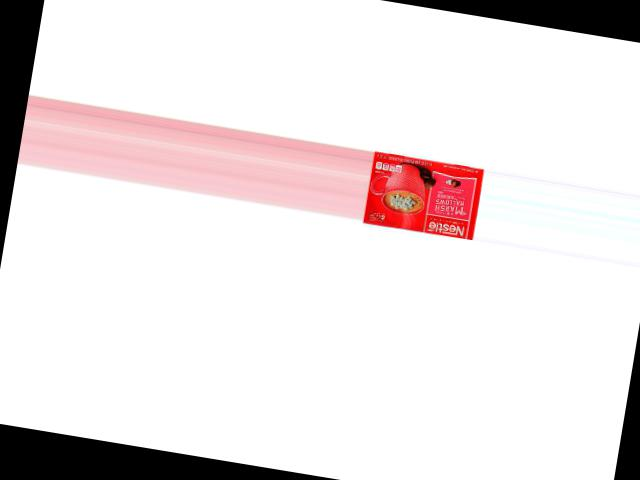chocolate: (362, 146, 482, 237)
